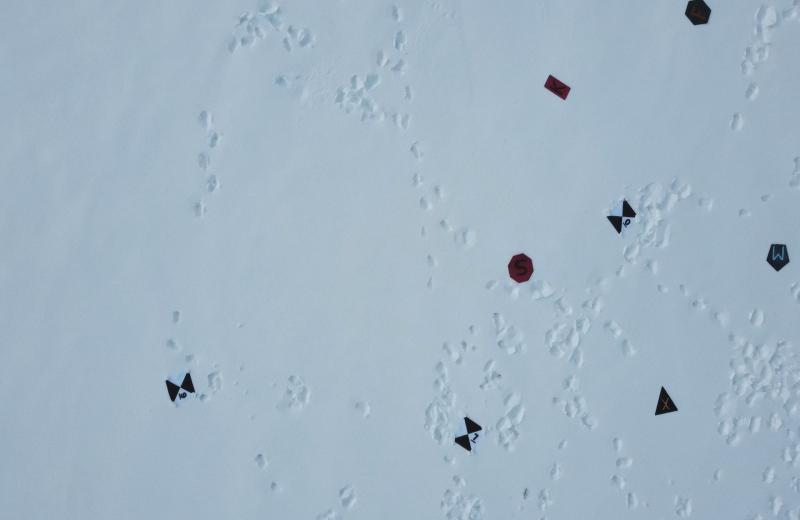Hexagon: (685, 1, 712, 26)
Octagon: (505, 251, 536, 286)
Pentagon: (764, 244, 790, 274)
Rectangle: (543, 70, 574, 101)
Triangle: (652, 386, 680, 418)
